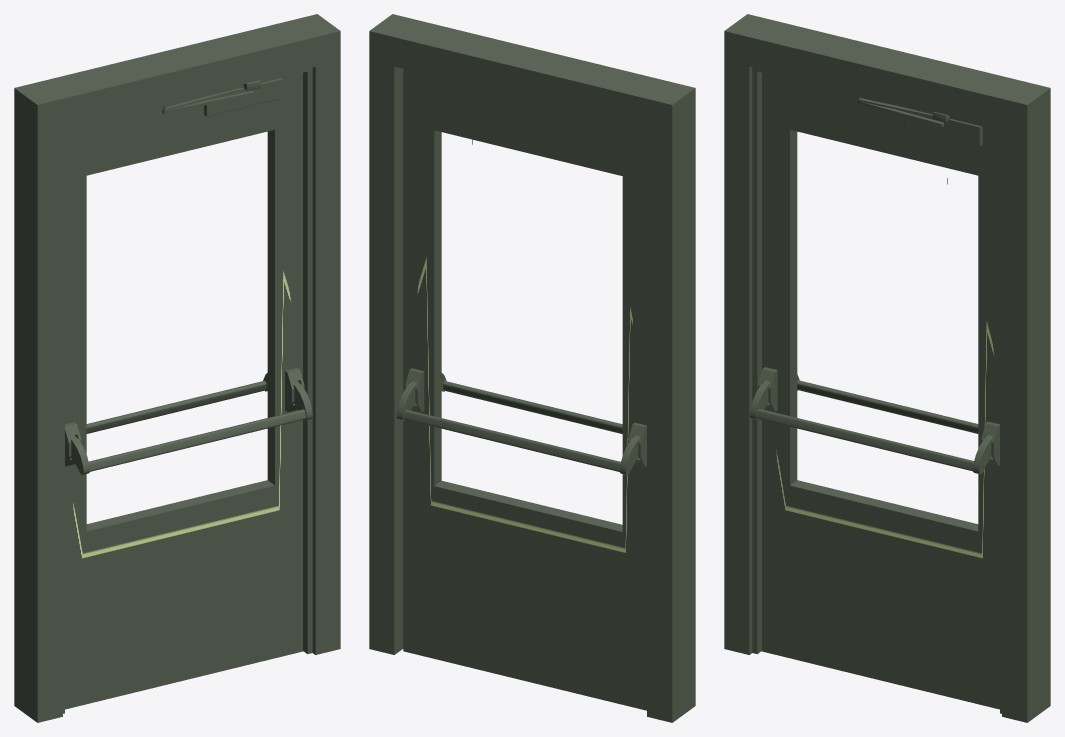
Rendered from PuertaCorregida.glb.
3 renders of one model, left to right at view 1: azimuth 30°, elevation 25°; view 2: azimuth 150°, elevation 25°; view 3: azimuth 330°, elevation 25°, orthographic.
Parts seen in each view (by area): view 1: Cube, Object011, door016; view 2: Cube, Object011, door016; view 3: Cube, Object011, door016.
Part boxes in pixels (x1,y1,x2,y2): Cube: (65, 73, 302, 709); Object011: (14, 14, 340, 722); door016: (65, 78, 312, 474); Cube: (403, 69, 646, 710); Object011: (369, 14, 695, 722); door016: (396, 139, 646, 474); Cube: (762, 73, 999, 709); Object011: (724, 14, 1050, 722); door016: (750, 108, 999, 474).
Bounding box in the file's own units: 12 × 23.42 × 3.03.
Materials: 3 (2 with a texture image).
